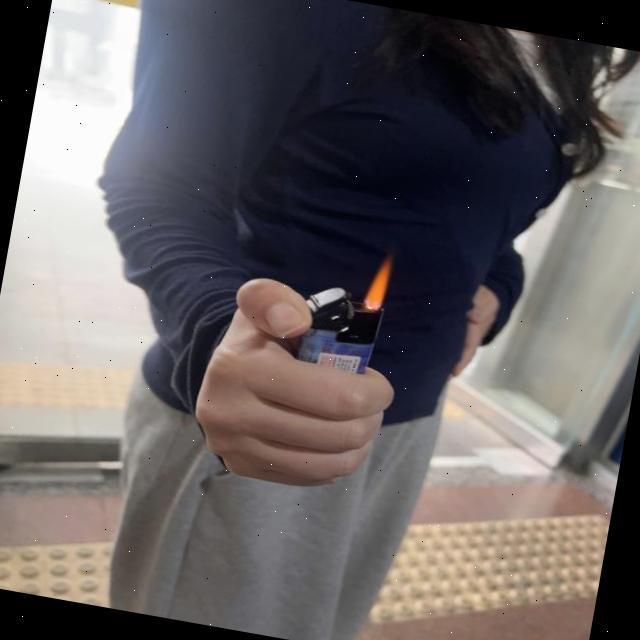fire: (362, 262, 392, 309)
